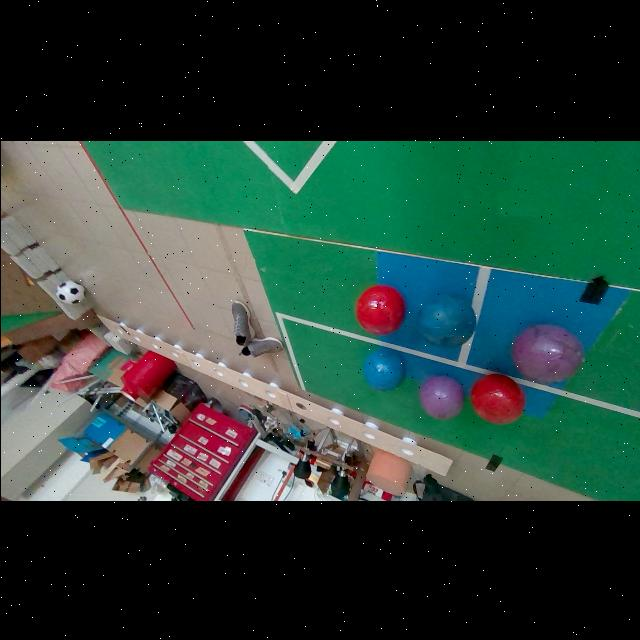B: (416, 293, 475, 346), (362, 346, 405, 390)
P: (511, 323, 582, 384), (420, 375, 462, 417)
R: (470, 374, 524, 424), (354, 284, 405, 335)
